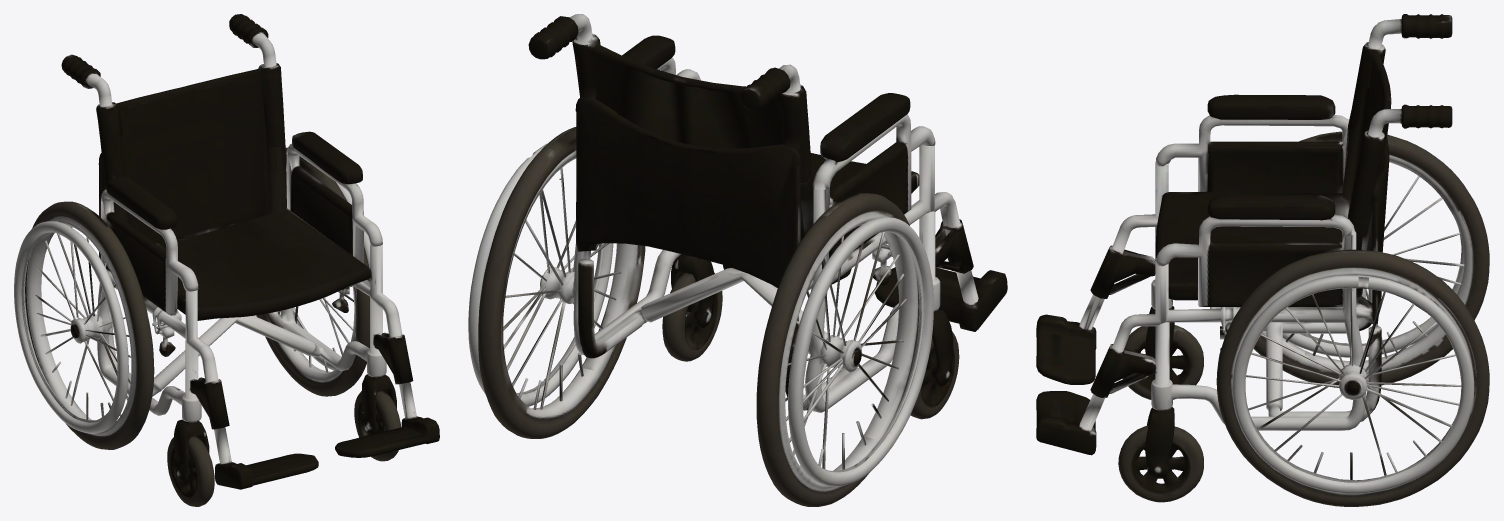
File: Medical__a_wheelchair_6ca2b945_v1.cluster.glb
3 renders of one model, left to right at view 1: azimuth 30°, elevation 25°; view 2: azimuth 150°, elevation 25°; view 3: azimuth 270°, elevation 25°, orthographic. The views are drawn at different scales.
Parts seen in each view (by area): view 1: material; view 2: material; view 3: material.
Part boxes in pixels (x1,y1,x2,y2): material: (14,14,439,506); material: (468,14,1007,506); material: (1036,14,1489,506).
Size of the model in its own units: 1.4 by 1.8 by 1.9.
Materials: 1 (1 with a texture image).
